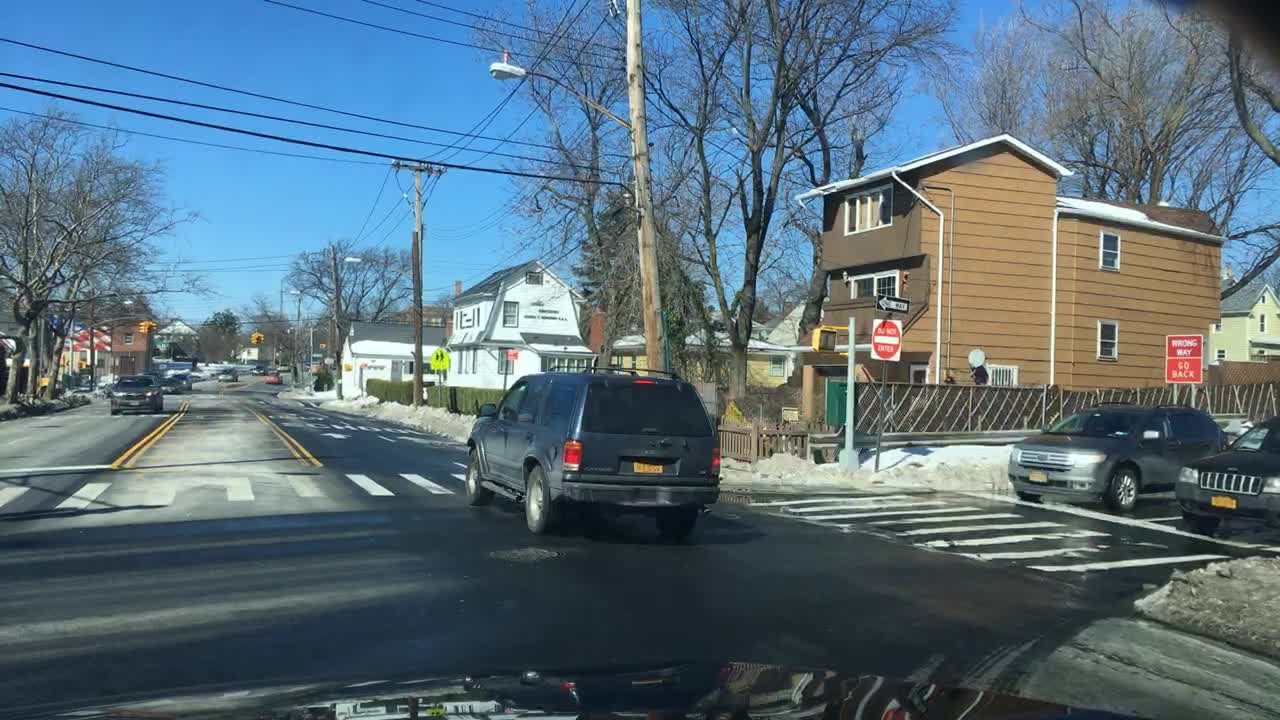car: (461, 361, 721, 539), (1007, 397, 1225, 511), (1172, 413, 1278, 533), (102, 372, 161, 411), (157, 374, 182, 393), (261, 369, 285, 382), (214, 368, 238, 380), (175, 371, 189, 390), (249, 361, 267, 374)
traffic light: (133, 318, 143, 337), (147, 321, 157, 337), (143, 318, 149, 337), (261, 333, 266, 346), (252, 333, 255, 346)
traffic sign: (1163, 333, 1200, 383), (870, 316, 901, 358), (873, 297, 909, 310), (430, 354, 450, 371), (306, 354, 320, 358)
